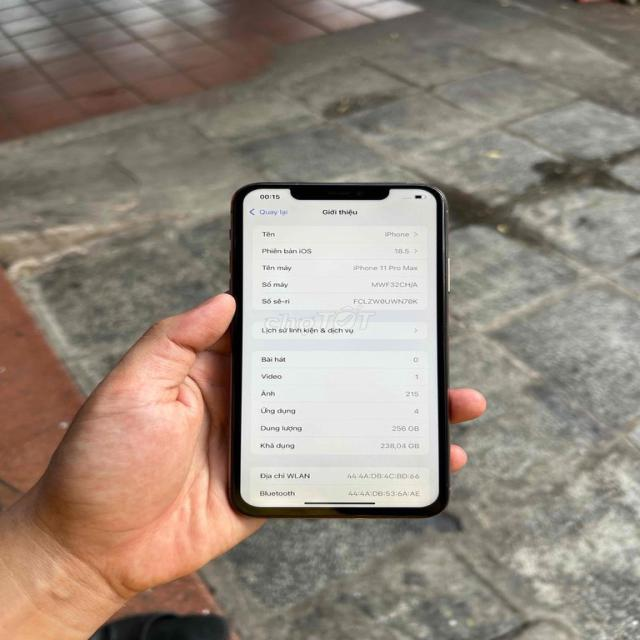gen_11: (224, 169, 462, 524)
